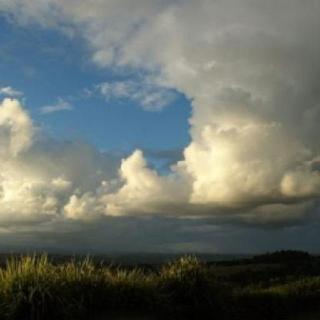Cumulus: (0, 0, 320, 246)
